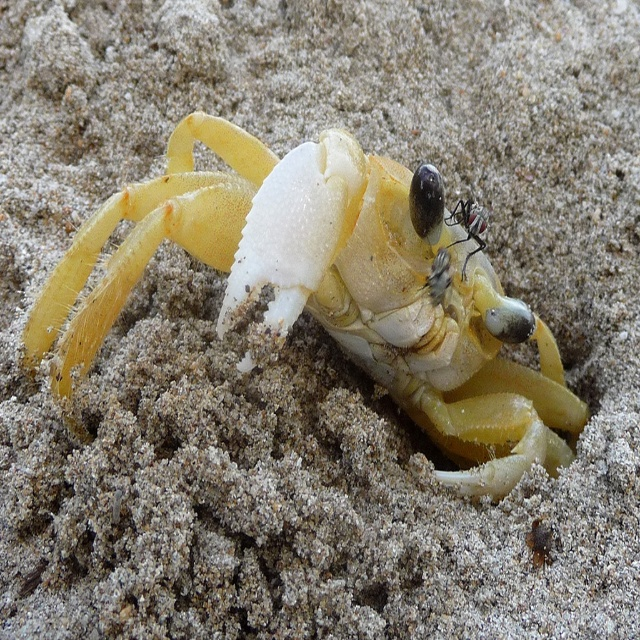Crab: (16, 112, 594, 504)
